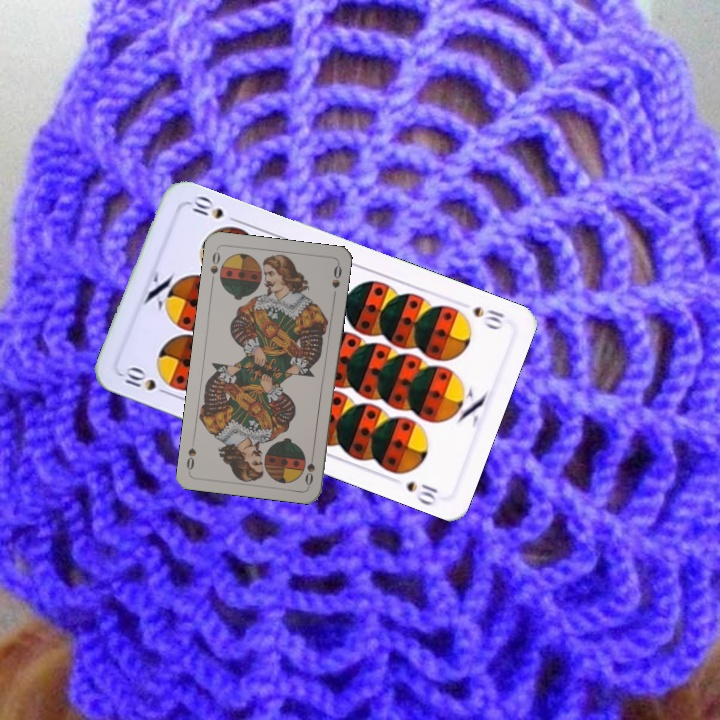S10: (117, 363, 174, 398), (469, 302, 507, 332)
SO: (301, 448, 318, 488), (206, 248, 223, 286)
